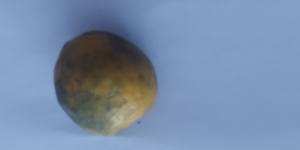BAD: (53, 30, 158, 135)
